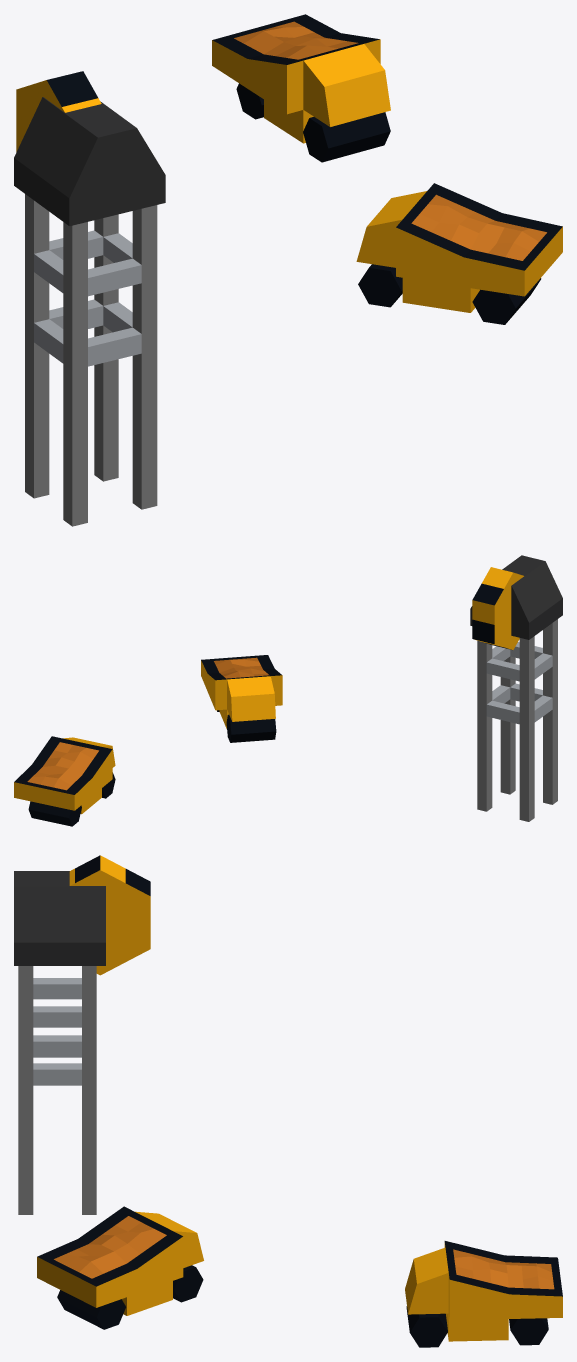
Rendered from Border_1_exploring.fbx.
The picture shows the model from 3 angles, top to bottom: view 1: azimuth 30°, elevation 25°; view 2: azimuth 150°, elevation 25°; view 3: azimuth 270°, elevation 25°; orthographic projection. The views are drawn at different scales.
Visible parts, largest first — view 1: Cube.003, Cylinder.001; view 2: Cube.003, Cylinder.001; view 3: Cube.003, Cylinder.001.
Part boxes in pixels (box(x1,y1,x2,y2)): Cube.003: box(14, 14, 562, 526); Cylinder.001: box(16, 71, 101, 151); Cube.003: box(14, 555, 562, 826); Cylinder.001: box(472, 567, 523, 649); Cube.003: box(14, 871, 562, 1347); Cylinder.001: box(69, 855, 150, 975).
Size of the model in its own units: 234 by 158 by 234.
